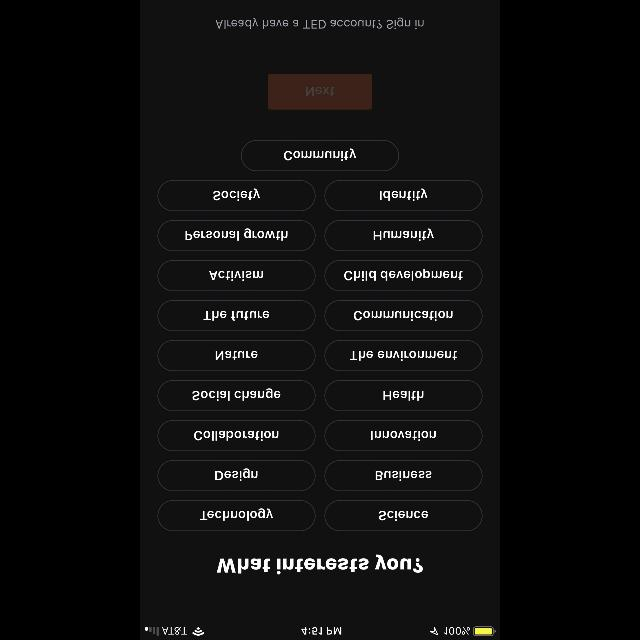text: (217, 554, 423, 574), (216, 17, 424, 29)
textbutton: (158, 220, 316, 252), (324, 500, 482, 532), (324, 420, 482, 452), (158, 300, 316, 332), (324, 260, 482, 292), (325, 220, 483, 252), (324, 180, 482, 212), (158, 180, 316, 212), (241, 140, 399, 172), (324, 381, 482, 412), (324, 341, 482, 372), (158, 500, 316, 530), (324, 460, 482, 490), (158, 460, 316, 490), (158, 420, 316, 450), (158, 380, 316, 410), (158, 340, 316, 370), (325, 300, 483, 330), (158, 260, 316, 290), (268, 74, 372, 110)
uppertaskbar: (140, 626, 500, 640)
